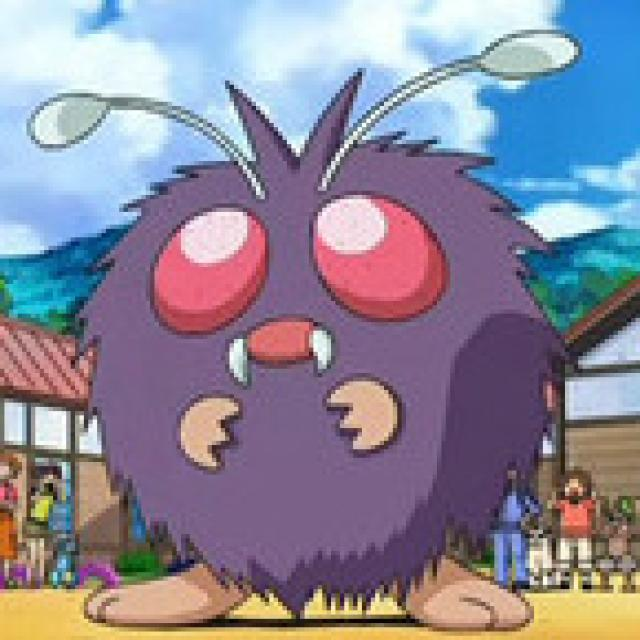Venonat: (84, 62, 529, 619)
